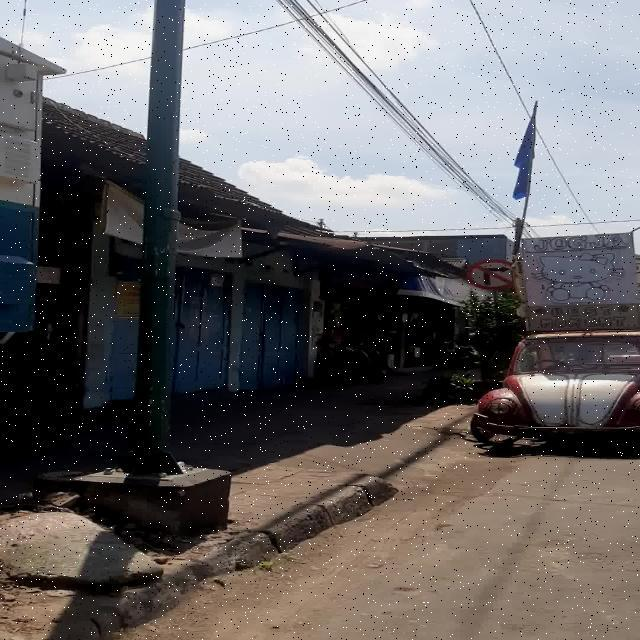Dilarang Belok Kanan: (466, 260, 514, 290)
